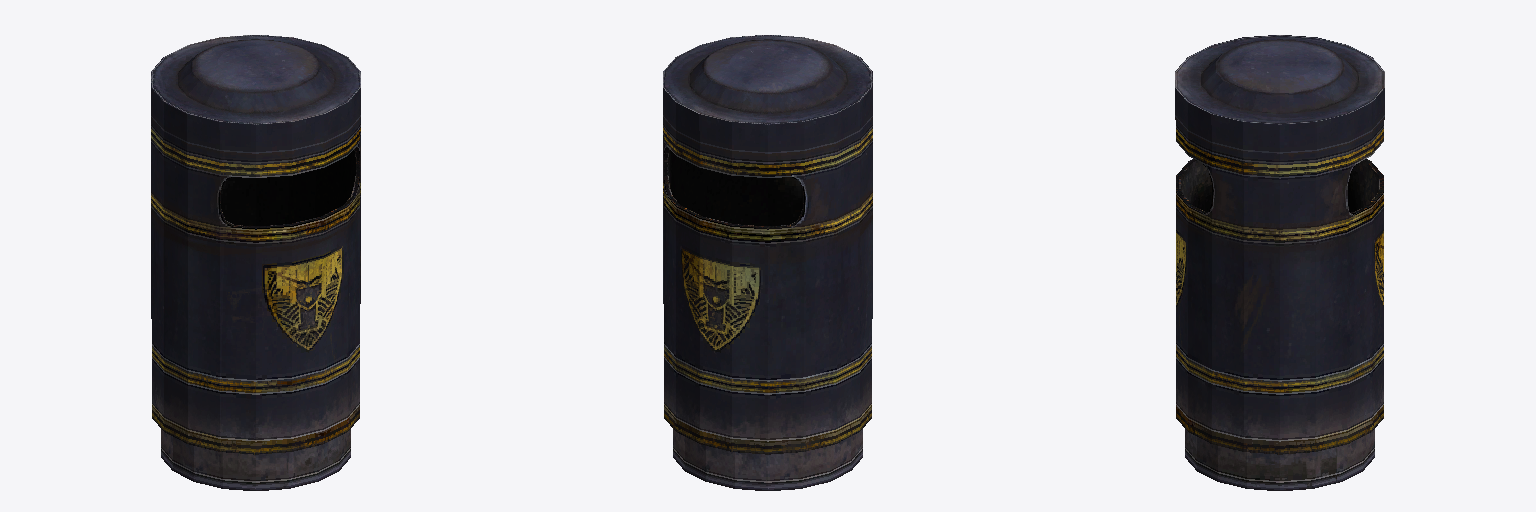
3 views of the same model, side by side, from view 1: azimuth 30°, elevation 25°; view 2: azimuth 150°, elevation 25°; view 3: azimuth 270°, elevation 25° (orthographic).
Visible parts, largest first — view 1: trash_can; view 2: trash_can; view 3: trash_can.
Boxes of the visible parts, x1,y1,x2,y2 form: trash_can: [151, 35, 360, 490]; trash_can: [663, 35, 872, 490]; trash_can: [1175, 35, 1384, 490].
Size of the model in its own units: 50.7 by 102 by 50.02.
Materials: 1 (1 with a texture image).